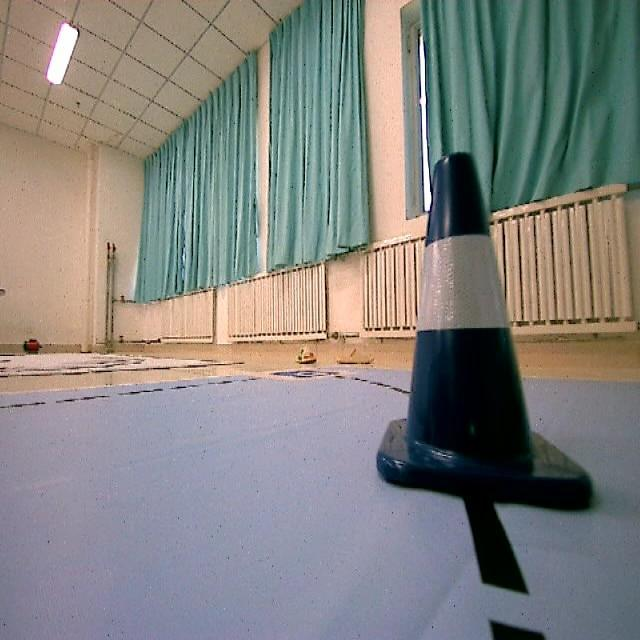obstacle: (376, 140, 601, 538)
